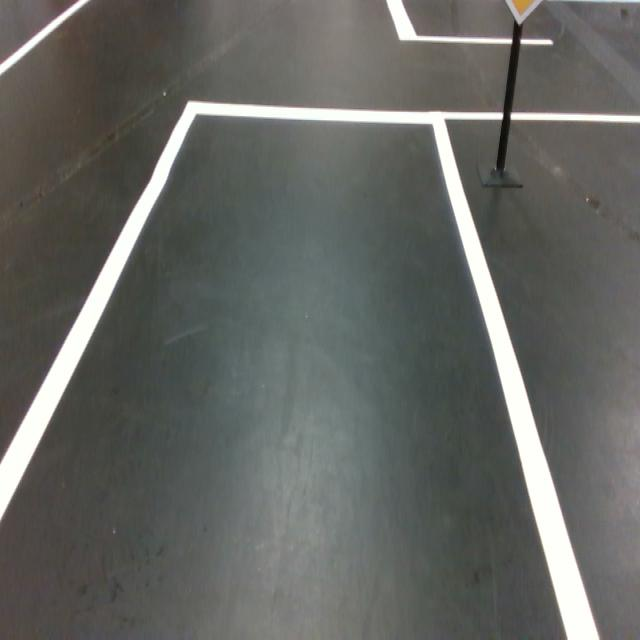priority-sign: (502, 0, 543, 29)
